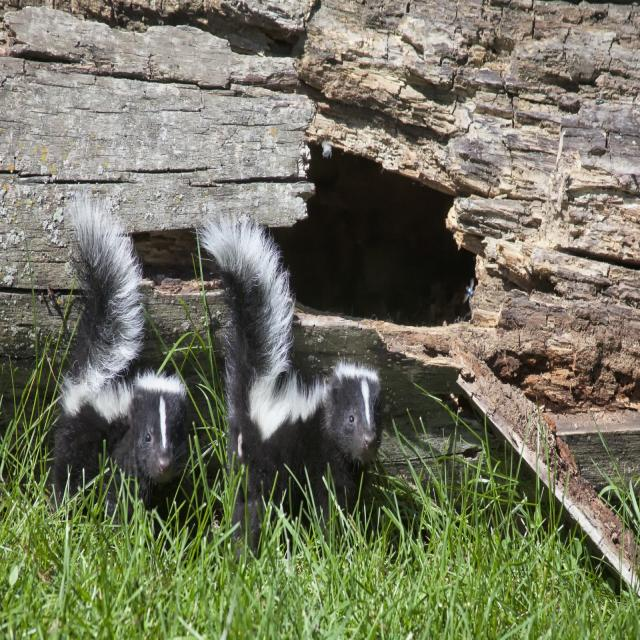Skunk: (203, 168, 398, 540)
